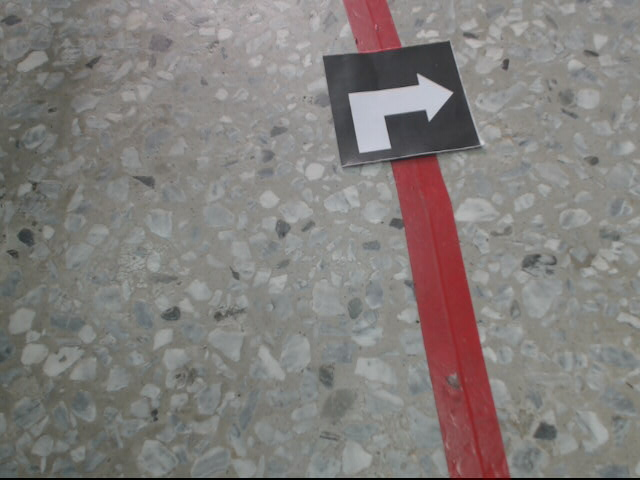right: (321, 42, 481, 164)
